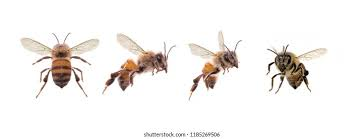insect: (19, 31, 99, 100), (101, 32, 178, 98), (185, 30, 241, 99), (263, 43, 325, 94)
